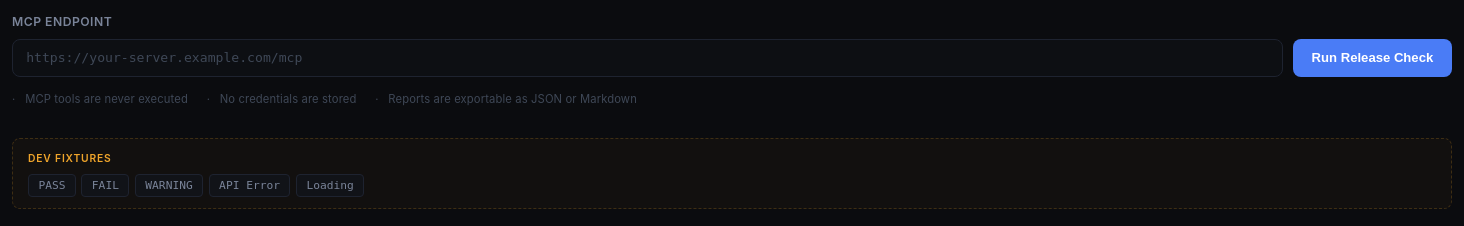
Scenario: CheckClient › disables the submit button while loading
Step 1. Type "https://example.com/mcp" into the field labelled "MCP Endpoint" → (648, 58), box [12,39,1283,77]
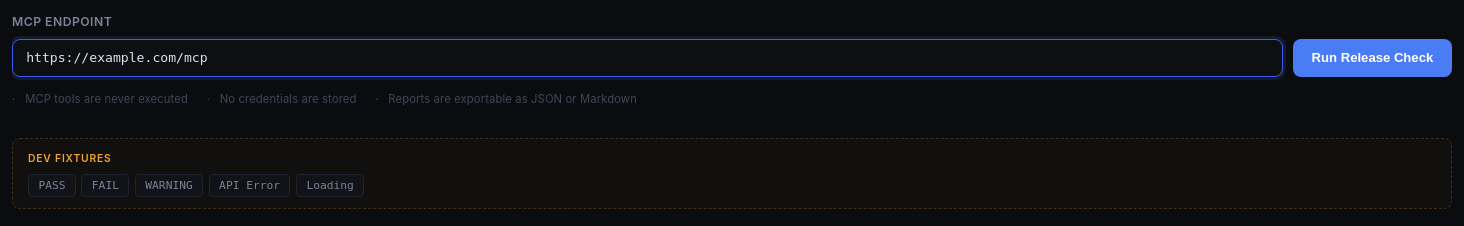
Step 2. Click the button "Run Release Check" → (1372, 58), box [1293,39,1452,77]
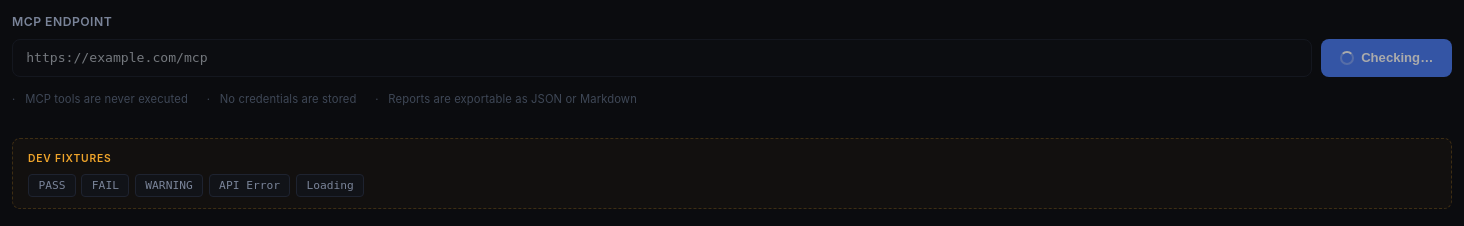
Expected: the button "Checking…" is disabled, [1321,39,1452,77]
